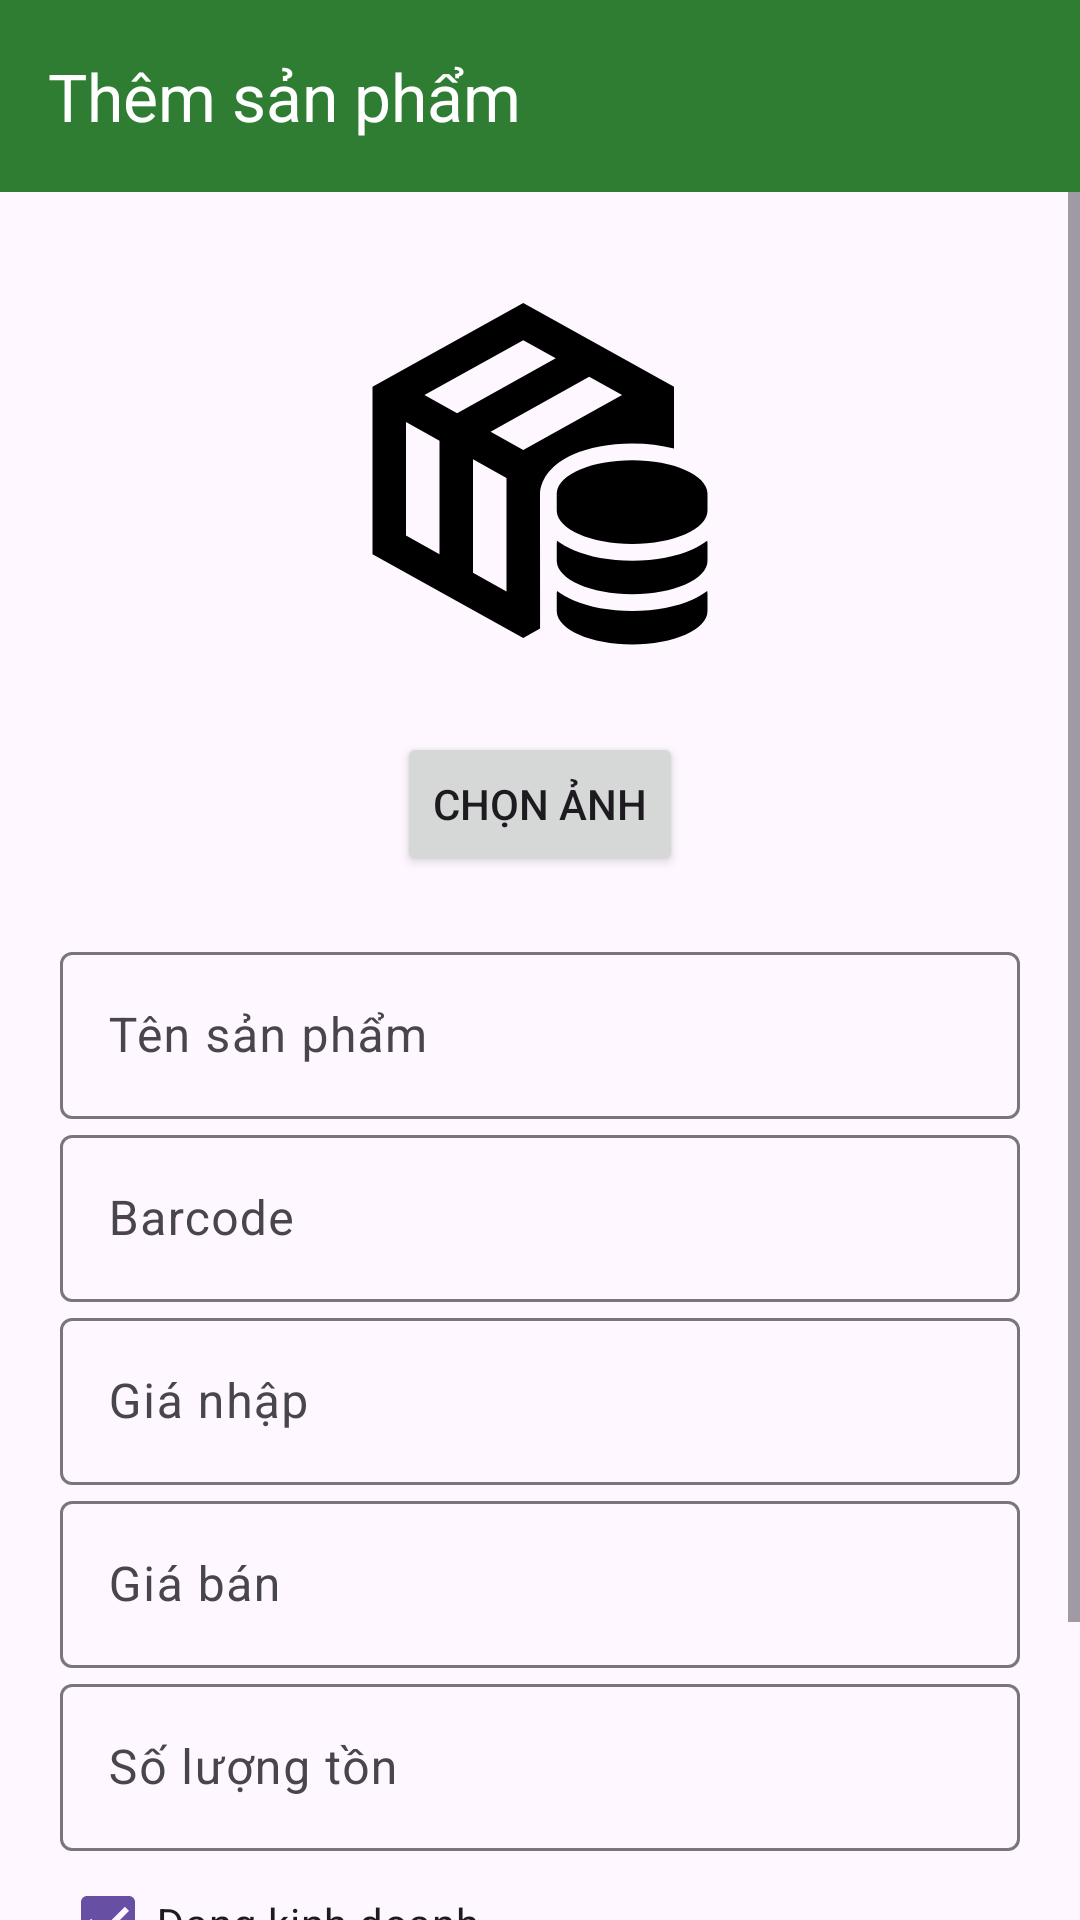

Point at icon controls on the screen. Image size 1080*1920, points as [x,y].
product: [540,474]
